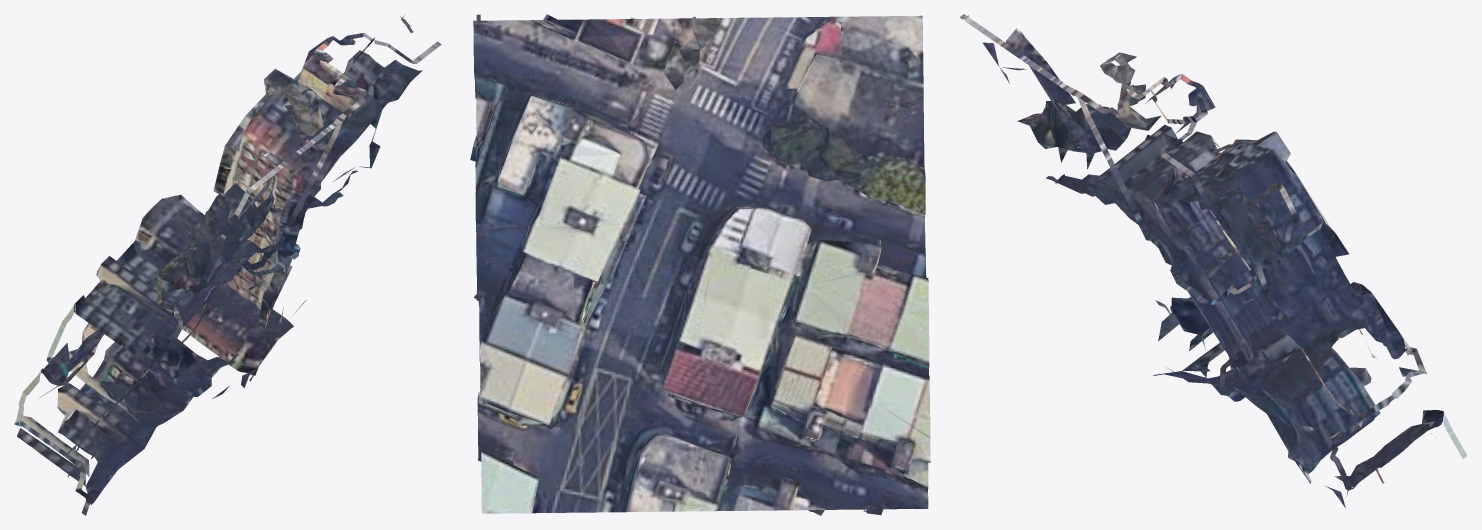
3 renders of one model, left to right at view 1: azimuth 30°, elevation 25°; view 2: azimuth 150°, elevation 25°; view 3: azimuth 270°, elevation 25°, orthographic. The views are drawn at different scales.
Bounding box in the file's own units: 83.45 × 74.85 × 79.4.
1 material, 1 textured.
